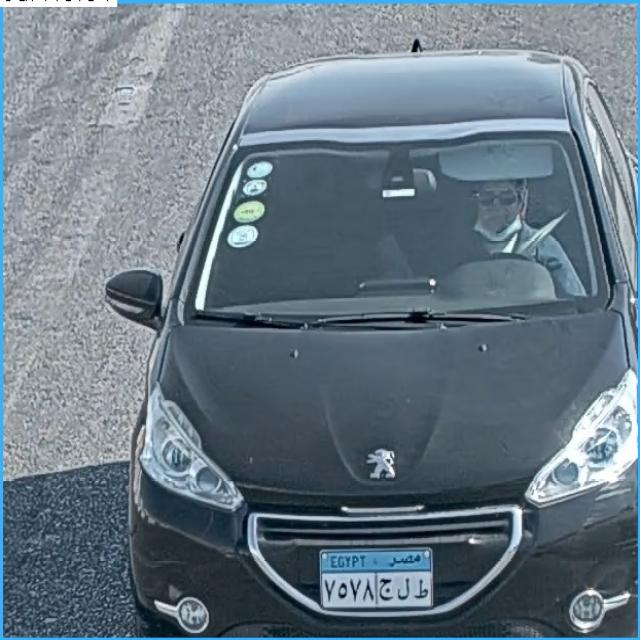windshield: (186, 133, 606, 305)
